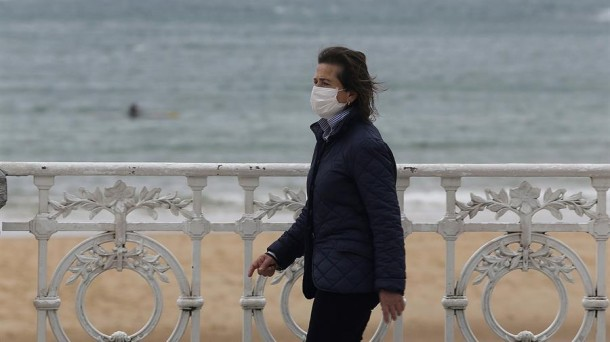with_mask: (305, 52, 375, 122)
